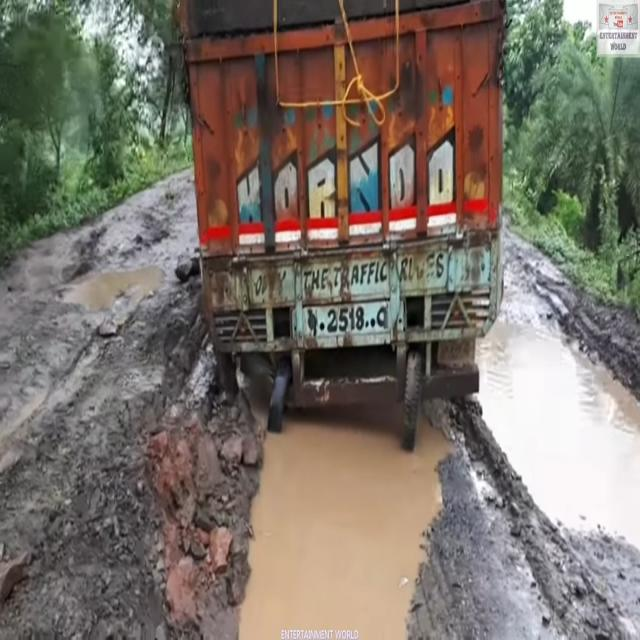truck: (180, 0, 514, 445)
